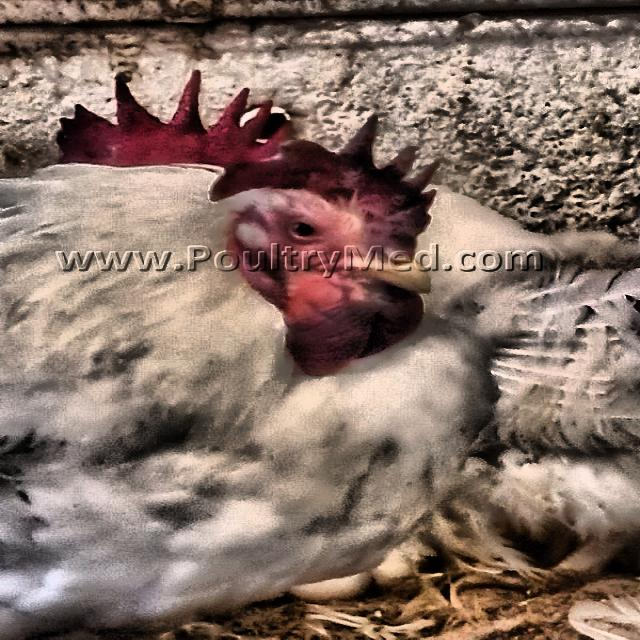Infectios bronchitis: (214, 129, 456, 367)
